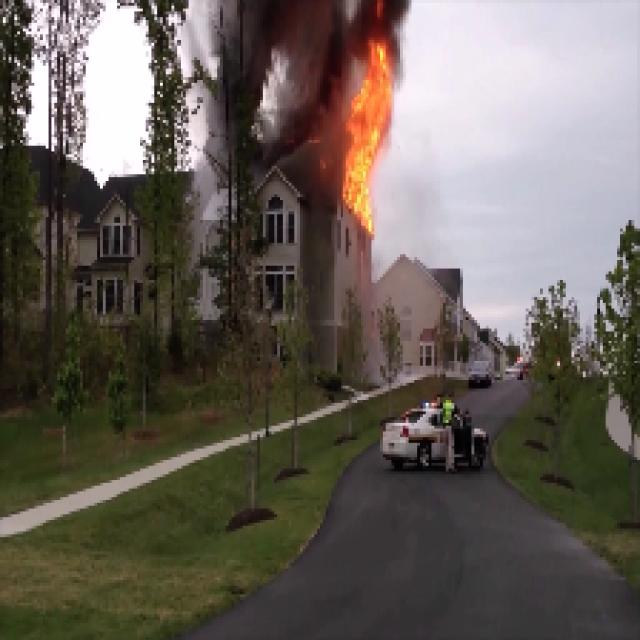fire: (350, 45, 384, 223)
smoke: (232, 5, 338, 144)
